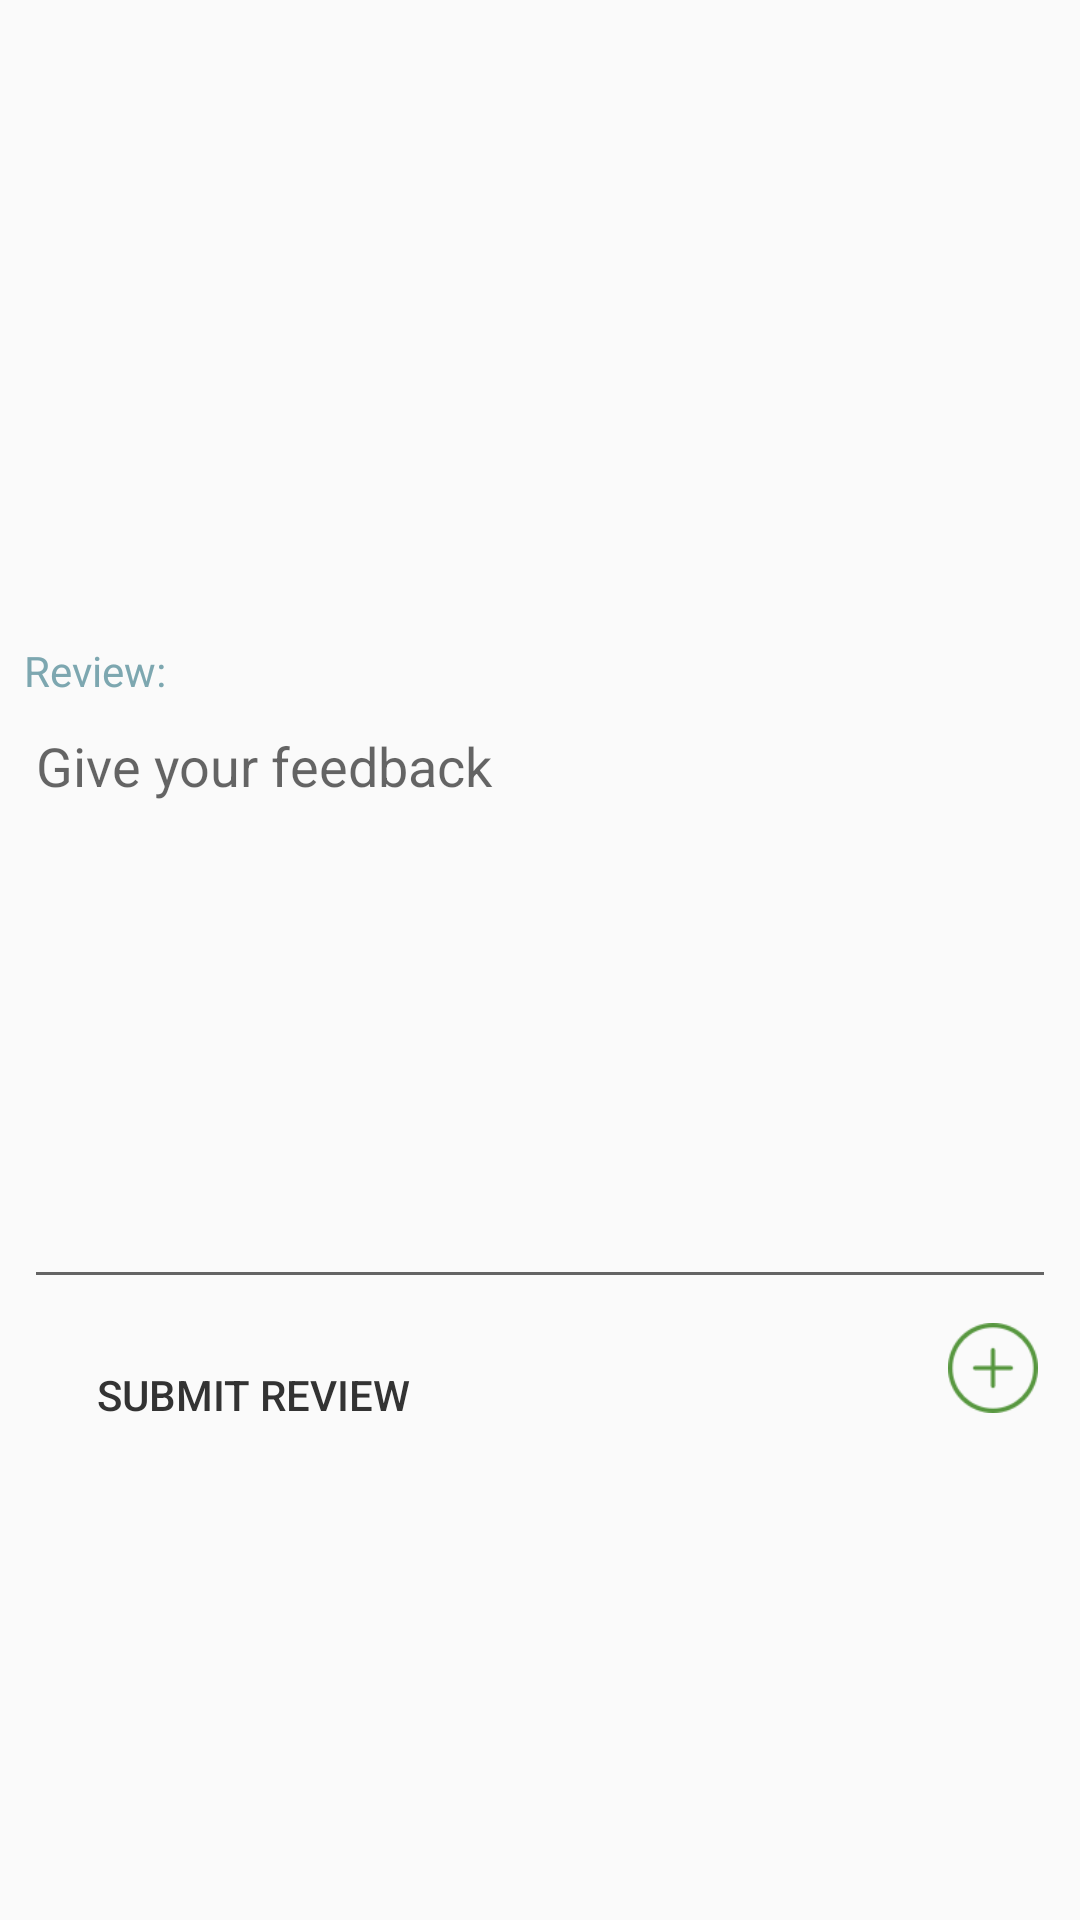

Screen size 1080×1920. Icon name, then its center in pixels as (x=x, y=y):
add circle: (x=993, y=1368)
